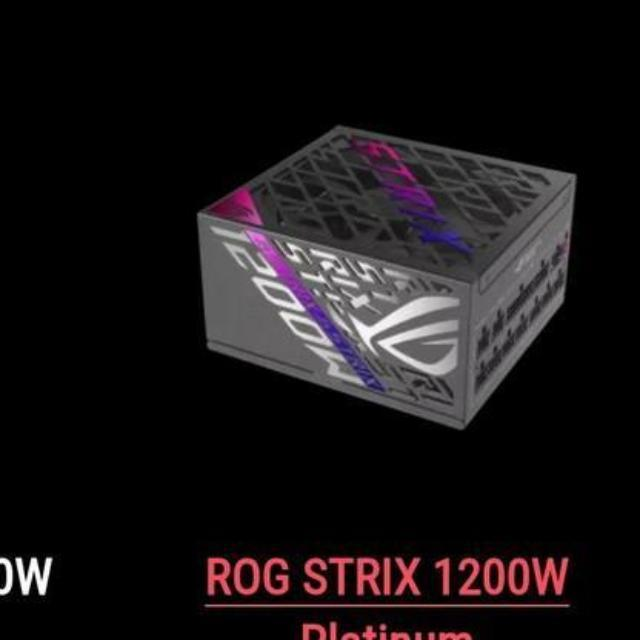PSU: (174, 117, 586, 446)
